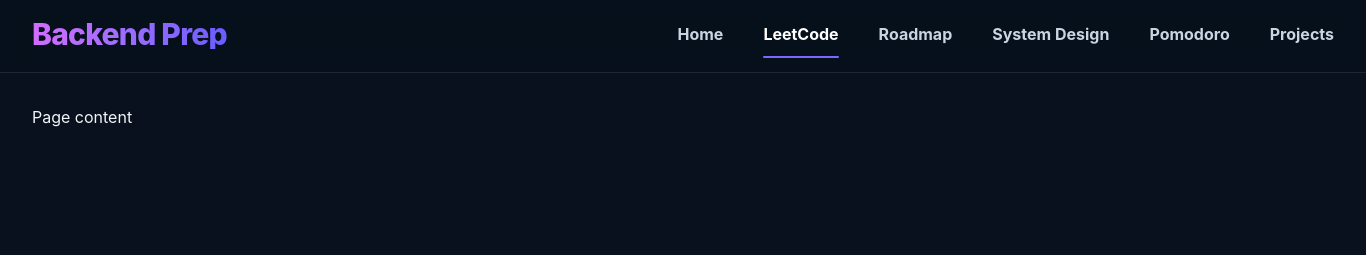
AppShell › closes the LeetCode menu from keyboard and menu item selection
Hover over the link "LeetCode": (801, 34) [763,16,839,52]
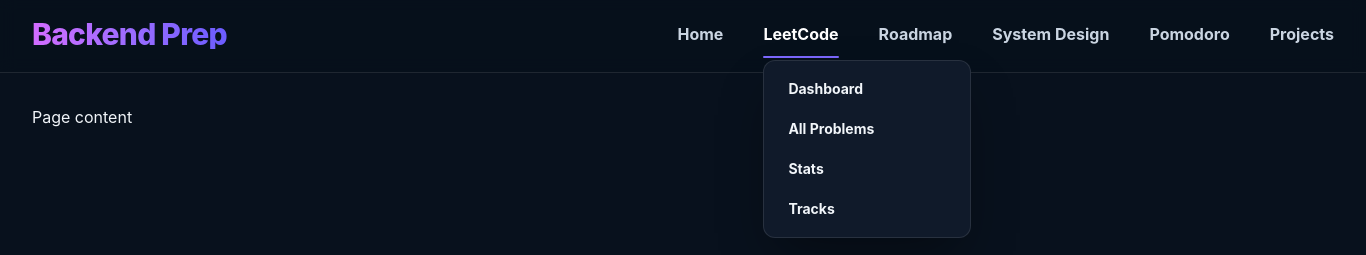
expect the menu named "LeetCode menu" is shown: met, box [763,60,971,238]
Press Escape
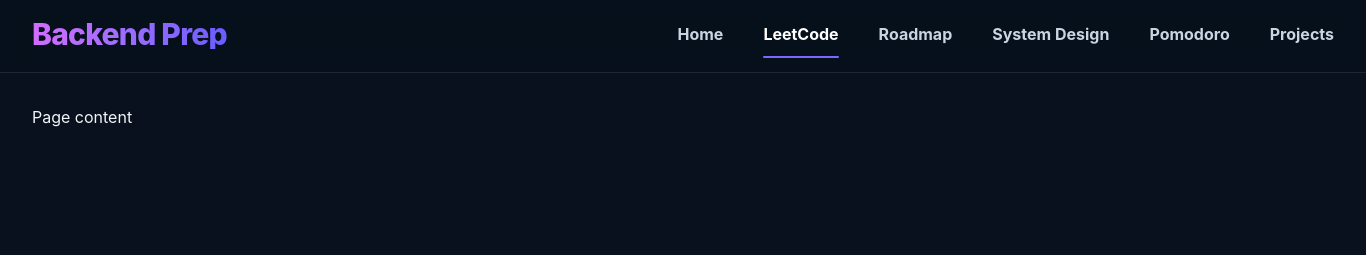
expect the menu "LeetCode menu" is gone: met
Hover over the link "LeetCode": (801, 34) [763,16,839,52]
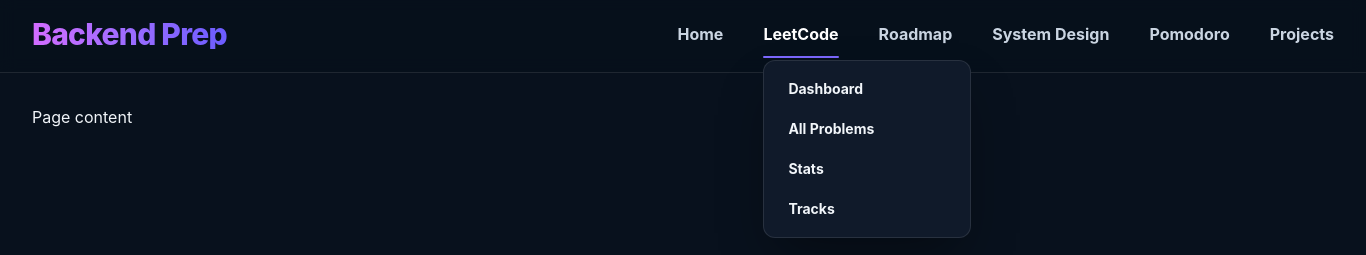
Click the menu item "Stats": (806, 168) [788,160,824,177]
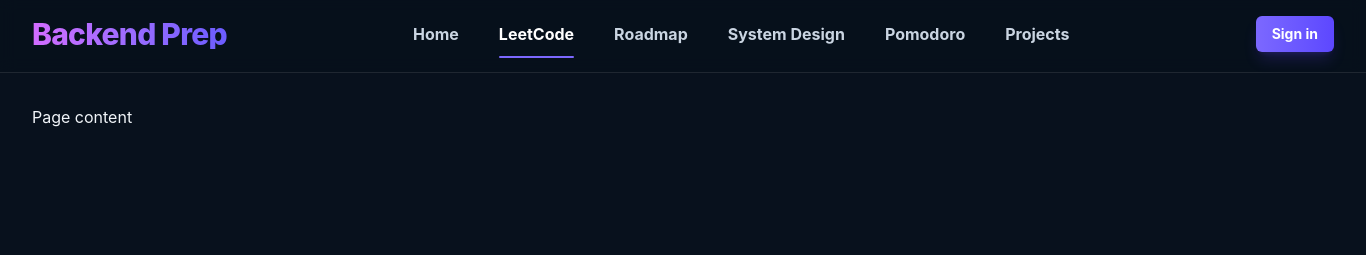
expect the menu "LeetCode menu" is gone: met
